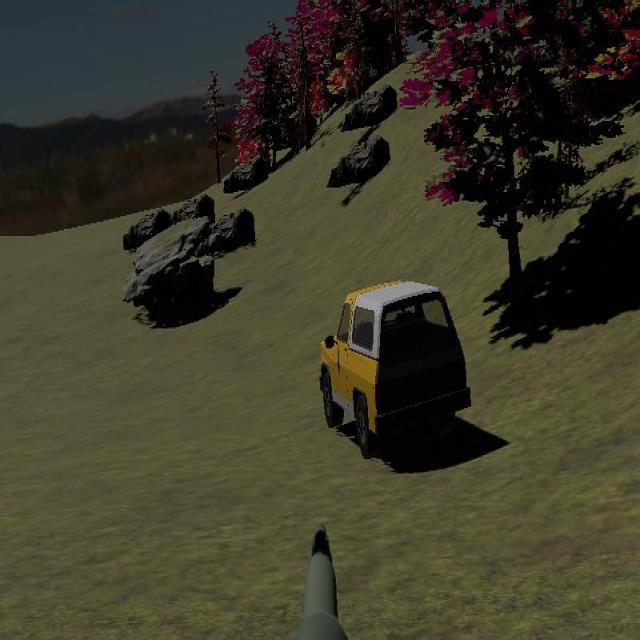car: (318, 281, 473, 460)
